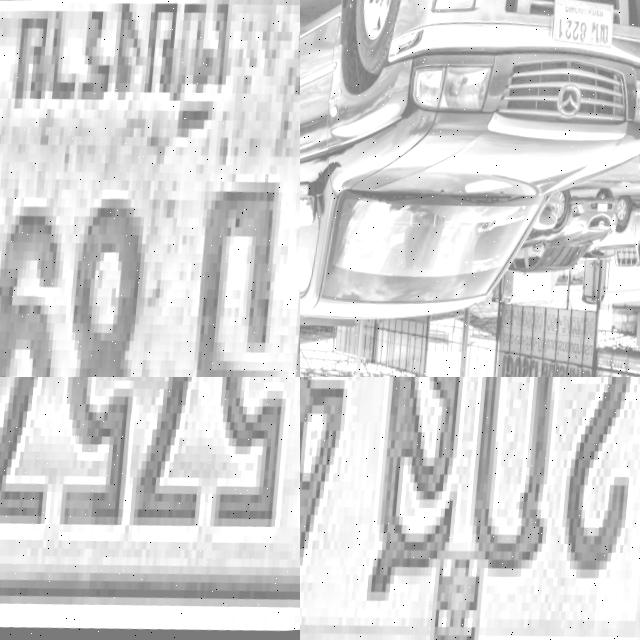license-plate: (0, 0, 300, 377), (300, 377, 640, 640), (0, 377, 300, 640), (547, 0, 615, 61)
